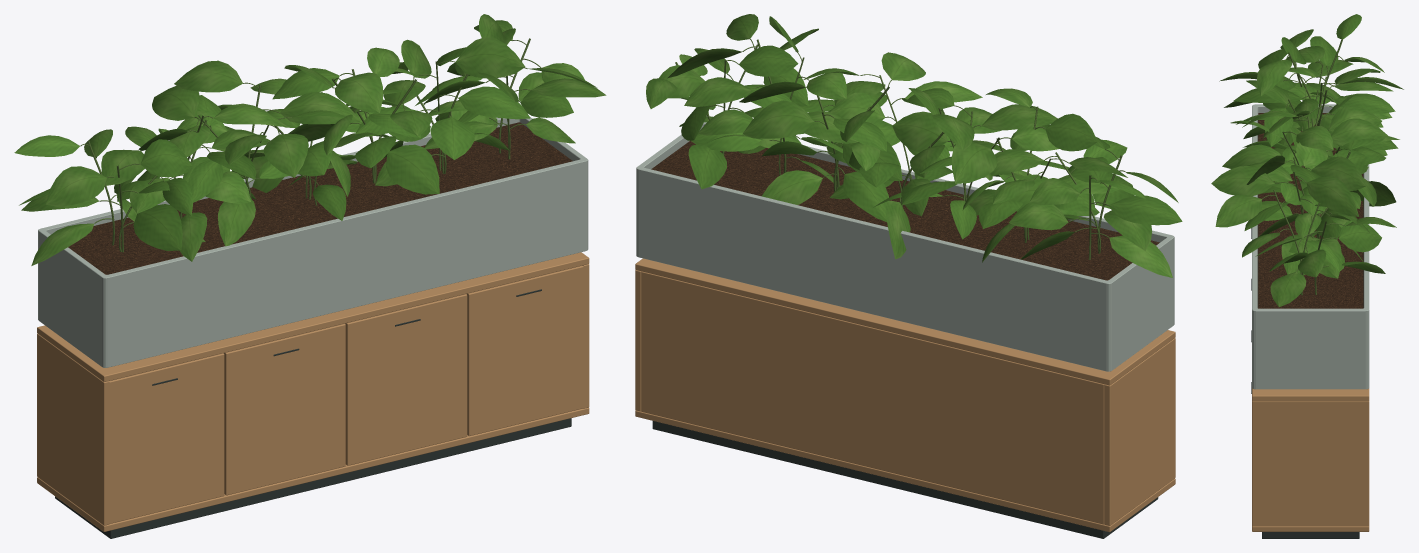
Rendered from botanicalDivider-8.glb.
3 renders of one model, left to right at view 1: azimuth 30°, elevation 25°; view 2: azimuth 150°, elevation 25°; view 3: azimuth 270°, elevation 25°, orthographic. The views are drawn at different scales.
Parts seen in each view (by area): view 1: StoragePlanter_Door (×4), Planter_pothos_leaves, Planter_oiled_oak, Planter_loose_soil, StoragePlanter_Side, StoragePlanter_Top, StoragePlanter_Plinth, StoragePlanter_Bottom, Planter_pothos_stems, Planter_matte_accent; view 2: StoragePlanter_Back, Planter_pothos_leaves, Planter_oiled_oak, Planter_loose_soil, StoragePlanter_Side (×2), StoragePlanter_Top, StoragePlanter_Plinth, Planter_matte_accent, StoragePlanter_Bottom, Planter_pothos_stems; view 3: Planter_pothos_leaves, StoragePlanter_Side, Planter_oiled_oak, Planter_loose_soil, Planter_pothos_stems, StoragePlanter_Top, StoragePlanter_Bottom, StoragePlanter_Plinth.
Part boxes in pixels (left/top/right/bottom): StoragePlanter_Door (×4): left=105, top=265, right=588, bottom=523; Planter_pothos_leaves: left=14, top=14, right=606, bottom=265; Planter_oiled_oak: left=38, top=117, right=588, bottom=367; Planter_loose_soil: left=68, top=122, right=572, bottom=274; StoragePlanter_Side: left=37, top=333, right=109, bottom=525; StoragePlanter_Top: left=37, top=252, right=589, bottom=381; StoragePlanter_Plinth: left=55, top=418, right=571, bottom=538; StoragePlanter_Bottom: left=37, top=407, right=589, bottom=531; Planter_pothos_stems: left=80, top=38, right=541, bottom=252; Planter_matte_accent: left=113, top=225, right=577, bottom=340; StoragePlanter_Back: left=641, top=271, right=1104, bottom=524; Planter_pothos_leaves: left=646, top=14, right=1182, bottom=277; Planter_oiled_oak: left=636, top=122, right=1174, bottom=371; Planter_loose_soil: left=651, top=140, right=1159, bottom=280; StoragePlanter_Side (×2): left=635, top=270, right=1175, bottom=525; StoragePlanter_Top: left=635, top=258, right=1175, bottom=385; StoragePlanter_Plinth: left=652, top=421, right=1158, bottom=538; Planter_matte_accent: left=645, top=240, right=1102, bottom=352; StoragePlanter_Bottom: left=635, top=410, right=1175, bottom=532; Planter_pothos_stems: left=675, top=39, right=1125, bottom=259; Planter_pothos_leaves: left=1211, top=14, right=1403, bottom=307; StoragePlanter_Side: left=1252, top=401, right=1369, bottom=526; Planter_oiled_oak: left=1252, top=104, right=1369, bottom=389; Planter_loose_soil: left=1258, top=113, right=1363, bottom=308; Planter_pothos_stems: left=1262, top=39, right=1350, bottom=295; StoragePlanter_Top: left=1252, top=388, right=1369, bottom=401; StoragePlanter_Bottom: left=1252, top=526, right=1369, bottom=531; StoragePlanter_Plinth: left=1262, top=532, right=1359, bottom=538.
Size of the model in its own units: 2.26 by 1.58 by 0.7924.
9 materials, 2 textured.
